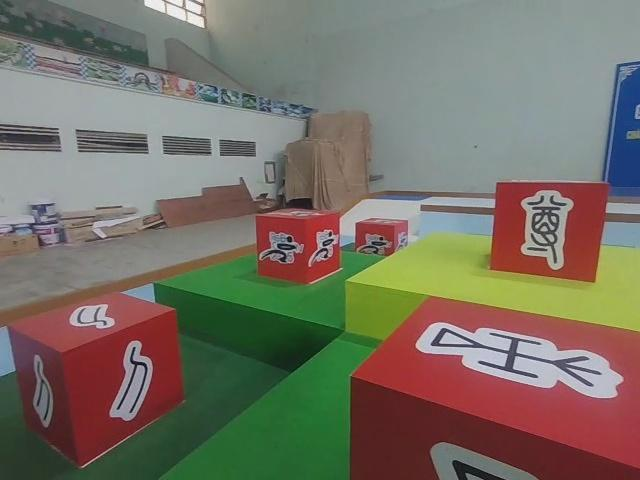R1: (252, 207, 346, 287), (353, 214, 412, 260)
R2 Fake: (486, 179, 613, 284)
R2 Real: (346, 291, 640, 480), (3, 289, 189, 469)
